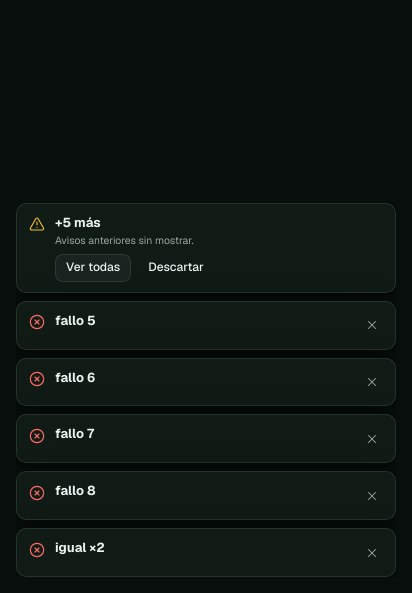
Scenario: Toaster: tope › «+N más» con acciones accesibles y contador ×N
Check: the text "igual ×2" is shown, box left=55, top=539, right=105, bottom=556
Check: the text "+5 más" is shown, box left=55, top=214, right=101, bottom=231
Click the button "Ver todas" at x=93, y=268, box left=55, top=254, right=131, bottom=282
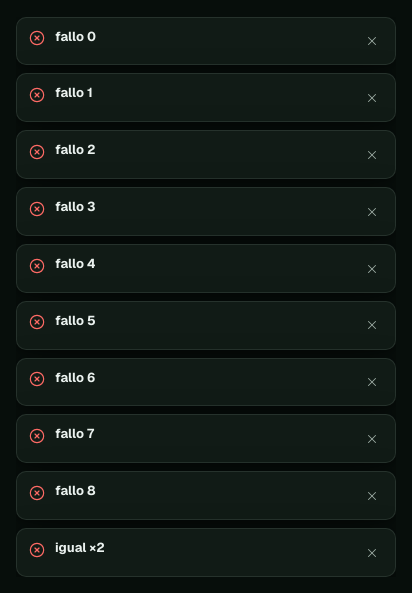
Check: the number of messages is 10
